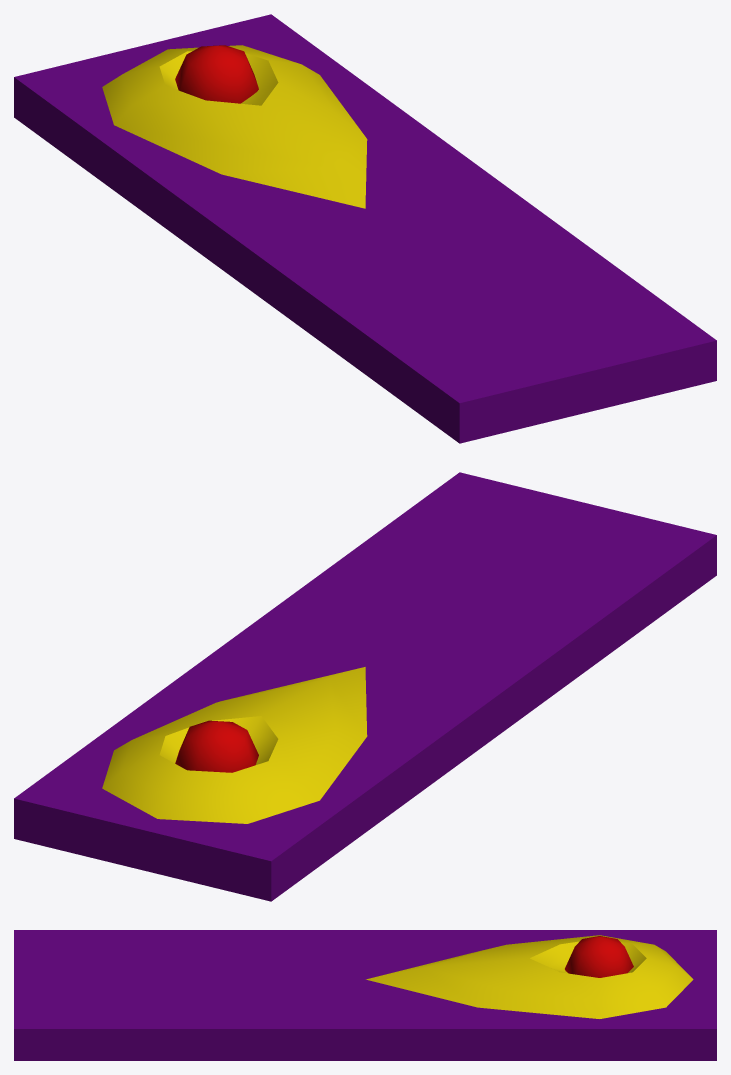
The model's file is BlackAngel.FBX.
3 views of the same model, one above another, from view 1: azimuth 30°, elevation 25°; view 2: azimuth 150°, elevation 25°; view 3: azimuth 270°, elevation 25° (orthographic). The views are drawn at different scales.
Visible parts, largest first — view 1: Box001, Plane001, Sphere001; view 2: Box001, Plane001, Sphere001; view 3: Box001, Plane001, Sphere001.
Boxes of the visible parts, x1,y1,x2,y2 form: Box001: [14, 14, 716, 443]; Plane001: [102, 45, 367, 208]; Sphere001: [175, 45, 258, 103]; Box001: [14, 472, 716, 901]; Plane001: [102, 667, 367, 823]; Sphere001: [175, 720, 258, 772]; Box001: [14, 930, 716, 1060]; Plane001: [366, 935, 693, 1018]; Sphere001: [565, 936, 633, 977].
Bounding box in the file's own units: 10 × 3.5 × 30.
Materials: 1 (1 with a texture image).
